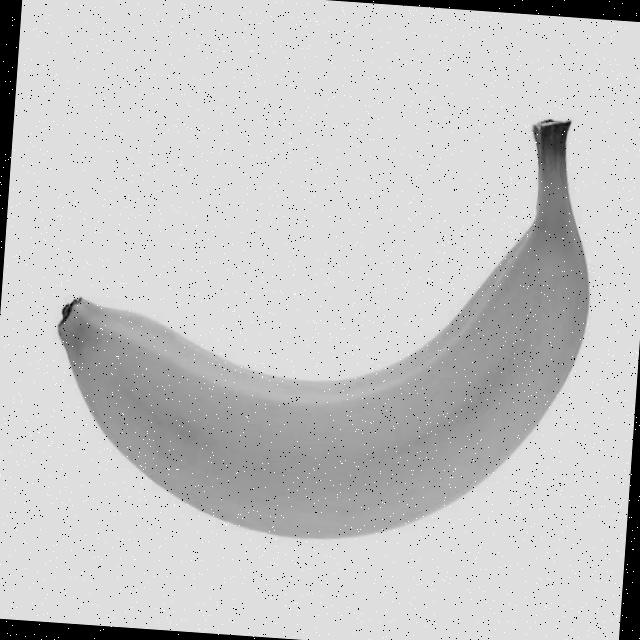Ripe: (39, 83, 606, 560)
